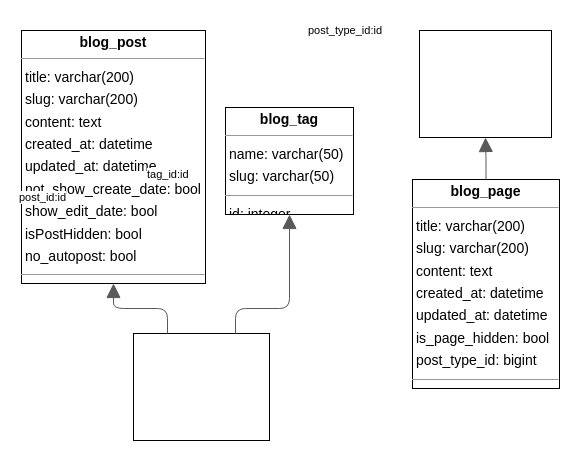
Some shapes in this 577 by 464 pixel diagram are drawn without their labels. Here are the shapes that lost their labels. From the top down, the centre of each, then its label:
the point at 485,84: blog_posttype name: varchar(50) slug: varchar(50) id: integer
the point at 201,386: blog_post_tags post_id: bigint tag_id: bigint id: integer
